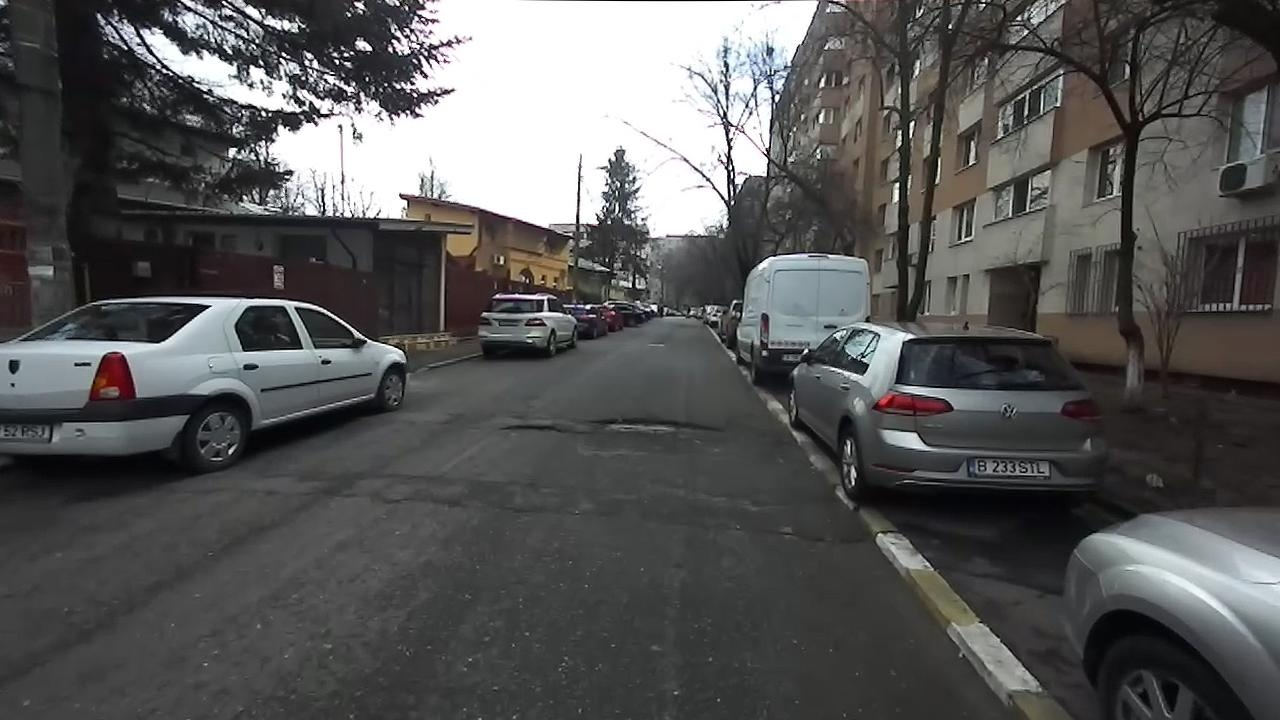pothole: (586, 413, 726, 436), (760, 526, 860, 548), (497, 420, 567, 433)
